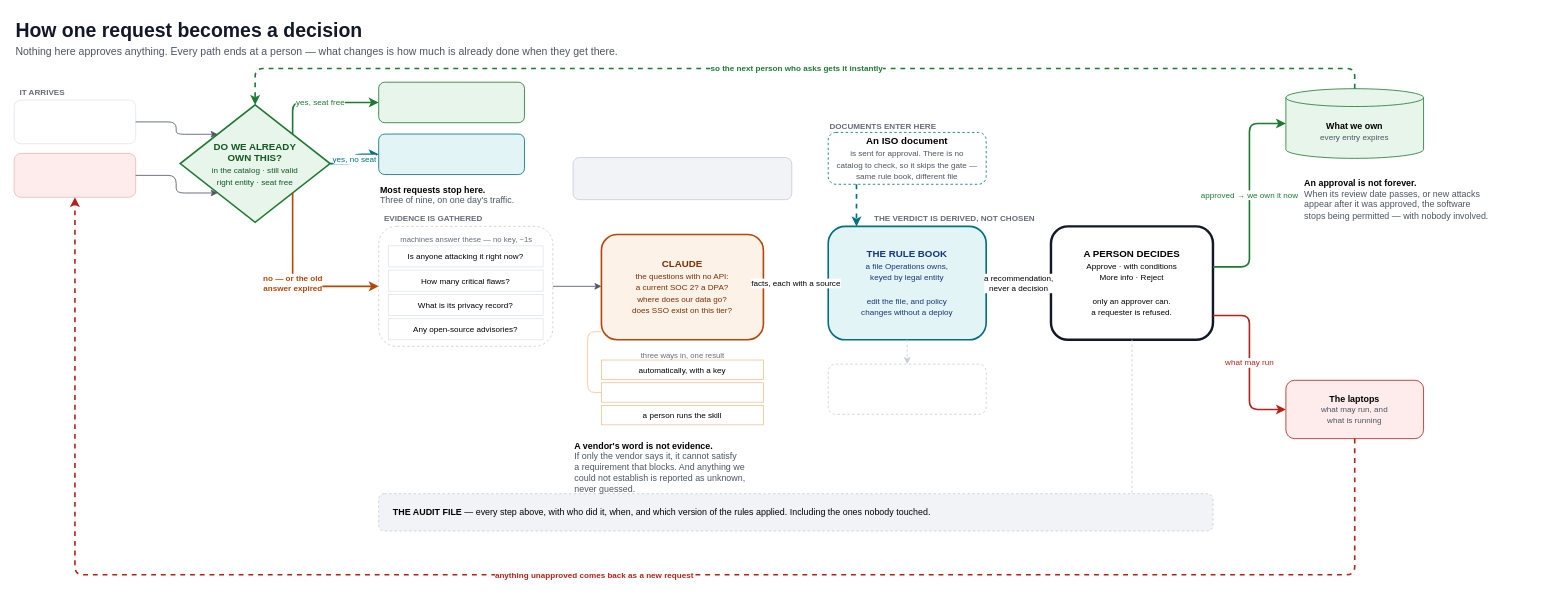
This 1560x595 diagram has some shape labels left out. The centre of each missing label's shape, as x and y in pixels:
A laptop scan finds something unapproved: point 74,175
Claude works the queue (MCP): point 682,392
every fact says where it came from verified · sourced · vendor claim · not found: point 682,178
Nobody approves it access in seconds, logged: point 451,102
Only Finance safety already settled: point 451,154
Privacy assessment drafted only when the law actually requires one: point 906,388
Someone asks for software: point 74,121
